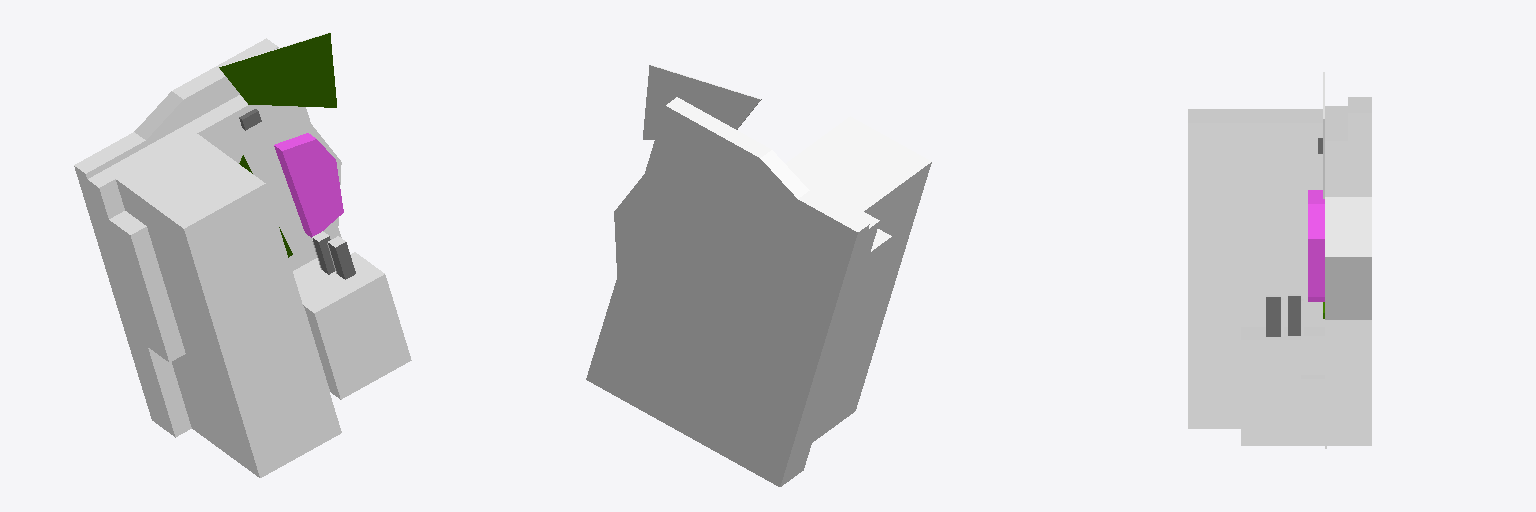
Rendered from Site9-Bldg2.obj.
3 views of the same model, side by side, from view 1: azimuth 30°, elevation 25°; view 2: azimuth 150°, elevation 25°; view 3: azimuth 270°, elevation 25° (orthographic).
Size of the model in its own units: 248 by 320 by 145.